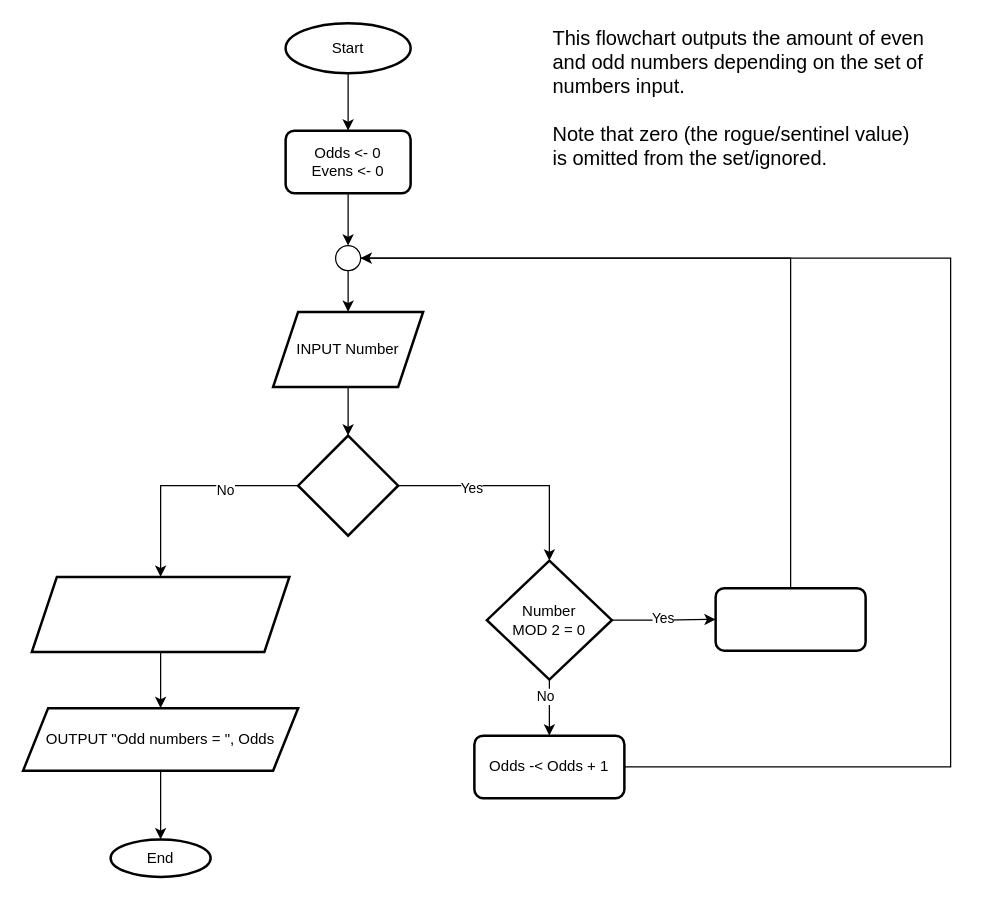
This 983x899 diagram has some shape labels left out. Each missing label, with the box of its shape:
Evens -< Evens + 1: (714, 586, 866, 651)
Number = 0: (296, 434, 399, 536)
OUTPUT "Even numbers = ", Evens: (30, 575, 290, 652)
